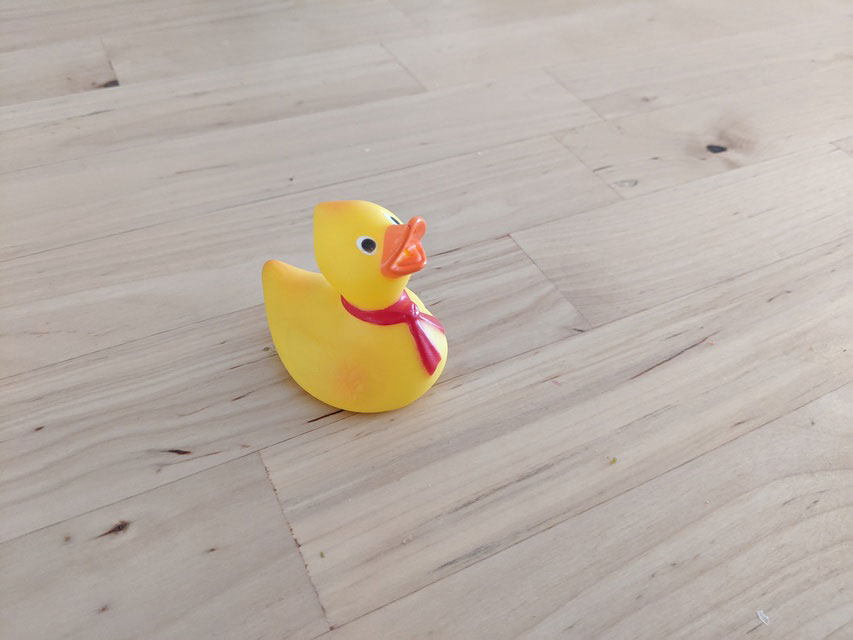ducky: (264, 199, 449, 413)
